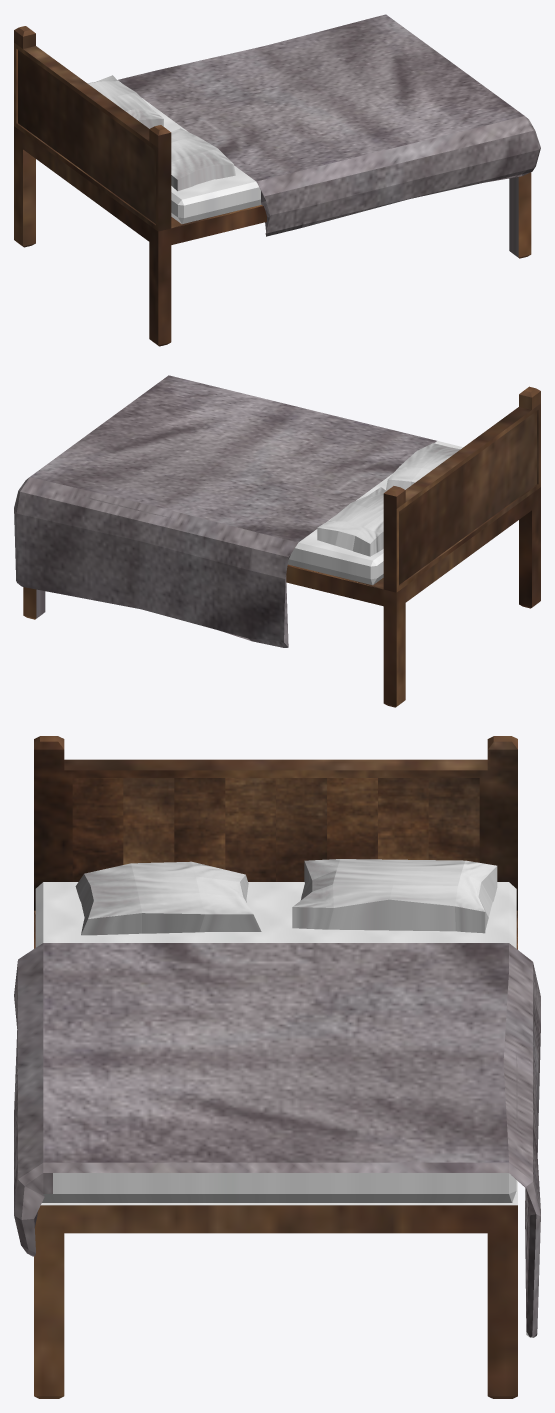
Rendered from cama.fbx.
The picture shows the model from 3 angles, top to bottom: view 1: azimuth 30°, elevation 25°; view 2: azimuth 150°, elevation 25°; view 3: azimuth 270°, elevation 25°; orthographic projection. The views are drawn at different scales.
Parts seen in each view (by area): view 1: cama; view 2: cama; view 3: cama.
Boxes of the visible parts, <box> form: cama: <box>14,14,540,346</box>; cama: <box>14,375,540,707</box>; cama: <box>14,736,540,1398</box>.
Bounding box in the file's own units: 474 × 258 × 340.
1 material, 1 textured.
